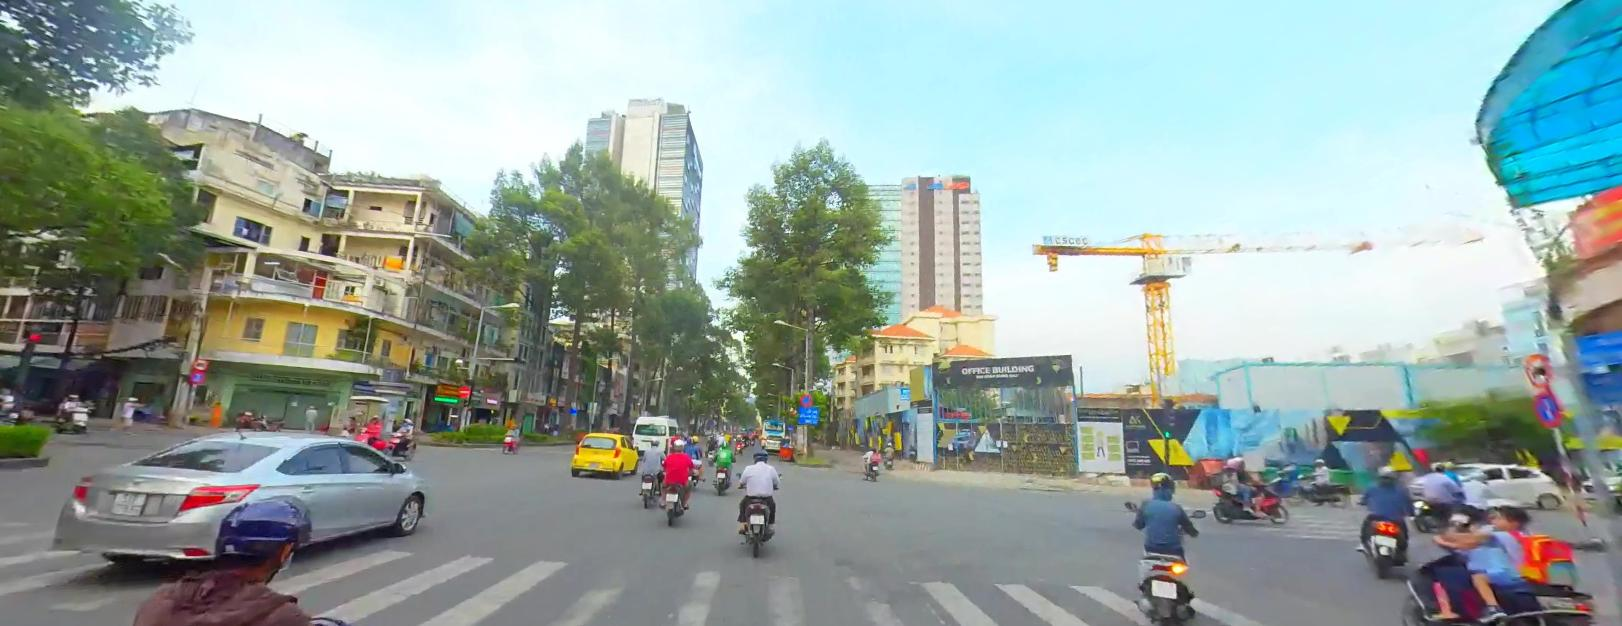Cam con lai: (1524, 353, 1553, 386), (193, 357, 206, 368)
Cam dung va do: (1533, 390, 1561, 426), (189, 369, 205, 382), (800, 393, 811, 404)
Cam nguoc chieu: (458, 385, 468, 396)
